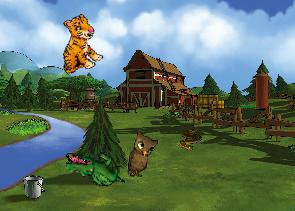crocodile: (64, 149, 125, 188)
owl: (127, 130, 159, 179)
tiger: (45, 11, 109, 79)
